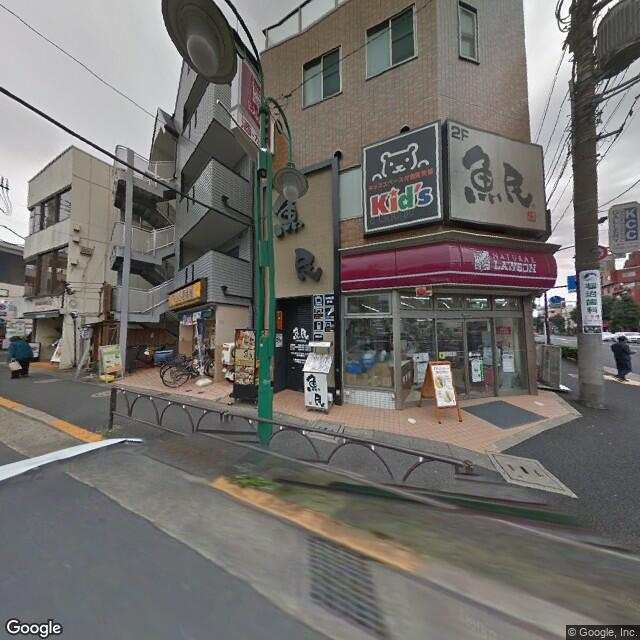lawson: (340, 243, 558, 290)
